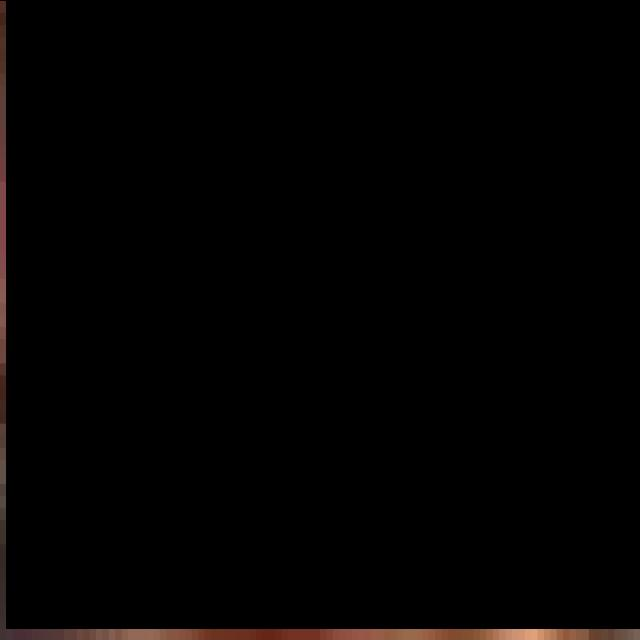fire: (6, 0, 640, 628)
